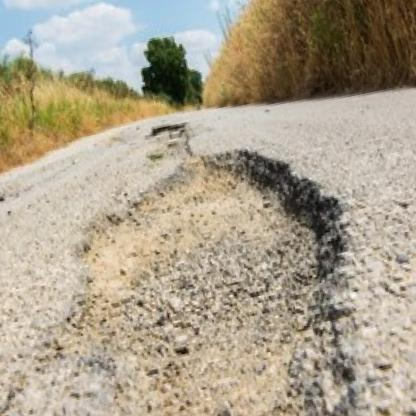pothole: (48, 129, 397, 416), (147, 120, 186, 139)
